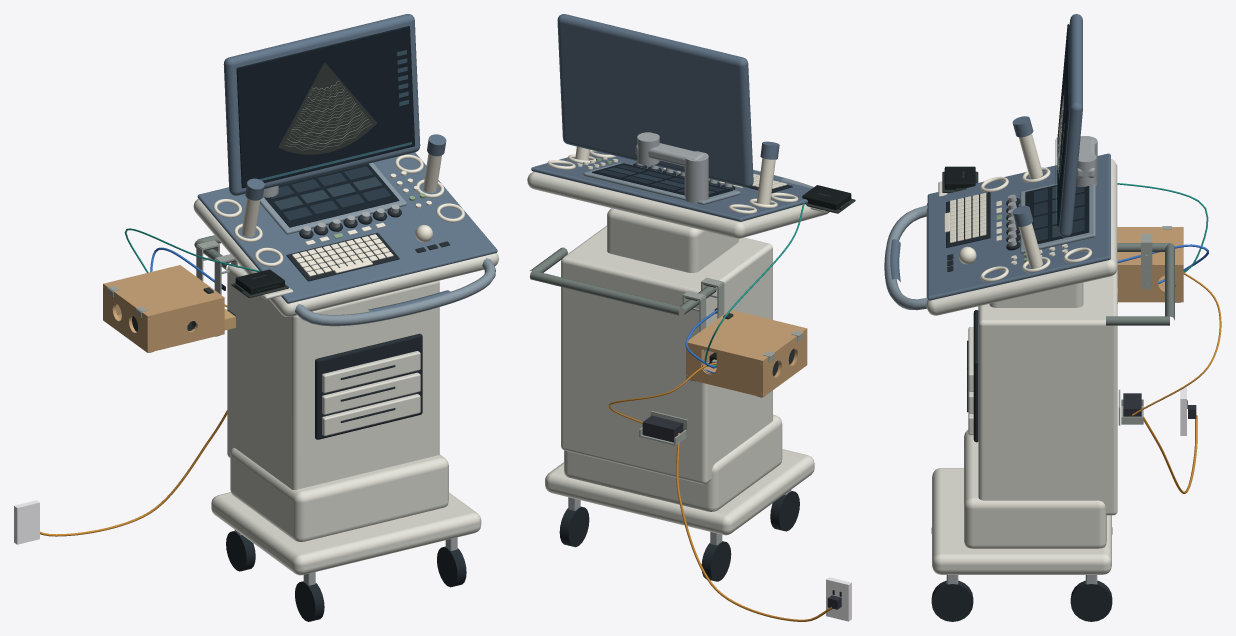
File: forher-recorder-v10-top-lid.glb
The picture shows the model from 3 angles, left to right: view 1: azimuth 30°, elevation 25°; view 2: azimuth 150°, elevation 25°; view 3: azimuth 270°, elevation 25°; orthographic projection.
Visible parts, largest first — view 1: Rounded lower machine body, Dark monitor glass, Blue-grey operation fascia, Lower skirt transition, Wheeled pedestal, Blue-grey monitor bezel, Front removable module face (×3), Synthetic ultrasound fan - no patient data, Wide operation interface table, A hinged top plywood, Front equipment bay, Caster wheel (×3) (+9 smaller); view 2: Rounded lower machine body, Blue-grey monitor bezel, Lower skirt transition, Wheeled pedestal, Operation deck pedestal, Wide operation interface table, Blue-grey operation fascia, A hinged top plywood, Caster wheel (×3), E rear open U notch - 45 wide 63.5 deep R22.5, Rear transverse grip, C left ventilation diameter 45 x 2 (+11 smaller); view 3: Rounded lower machine body, Blue-grey operation fascia, Lower skirt transition, Wheeled pedestal, Wide operation interface table, Blue-grey monitor bezel, Caster wheel (×2), A hinged top plywood, D right cable hole diameter 45, Operation deck pedestal, Curved front push handle, Probe grip (×2) (+11 smaller).
Part boxes in pixels (x1,y1,x2,y2): Rounded lower machine body: [227, 263, 439, 489]; Dark monitor glass: [236, 26, 414, 188]; Blue-grey operation fascia: [197, 152, 497, 303]; Lower skirt transition: [230, 447, 448, 541]; Wheeled pedestal: [211, 492, 481, 575]; Blue-grey monitor bezel: [223, 14, 420, 195]; Front removable module face (×3): [322, 351, 420, 435]; Synthetic ultrasound fan - no patient data: [278, 62, 376, 154]; Wide operation interface table: [193, 198, 498, 316]; A hinged top plywood: [103, 265, 224, 319]; Front equipment bay: [315, 333, 422, 439]; Caster wheel (×3): [226, 531, 466, 621]; Rounded lower machine body: [561, 225, 772, 484]; Blue-grey monitor bezel: [557, 14, 753, 187]; Lower skirt transition: [564, 414, 782, 511]; Wheeled pedestal: [545, 449, 814, 535]; Operation deck pedestal: [607, 208, 738, 272]; Wide operation interface table: [527, 171, 829, 238]; Blue-grey operation fascia: [531, 151, 811, 221]; A hinged top plywood: [687, 310, 807, 363]; Caster wheel (×3): [559, 491, 799, 581]; E rear open U notch - 45 wide 63.5 deep R22.5: [689, 346, 759, 393]; Rear transverse grip: [530, 270, 680, 315]; C left ventilation diameter 45 x 2: [760, 332, 807, 393]; Rounded lower machine body: [978, 255, 1117, 515]; Blue-grey operation fascia: [927, 153, 1110, 300]; Lower skirt transition: [964, 430, 1106, 548]; Wheeled pedestal: [932, 468, 1111, 574]; Wide operation interface table: [926, 159, 1117, 315]; Blue-grey monitor bezel: [1059, 14, 1082, 237]; Caster wheel (×2): [931, 580, 1112, 621]; A hinged top plywood: [1117, 227, 1183, 268]; D right cable hole diameter 45: [1117, 268, 1183, 298]; Operation deck pedestal: [989, 282, 1083, 307]; Curved front push handle: [884, 205, 927, 310]; Probe grip (×2): [1019, 134, 1042, 268].
Size of the model in its own units: 1.02 by 1.42 by 0.8245.
